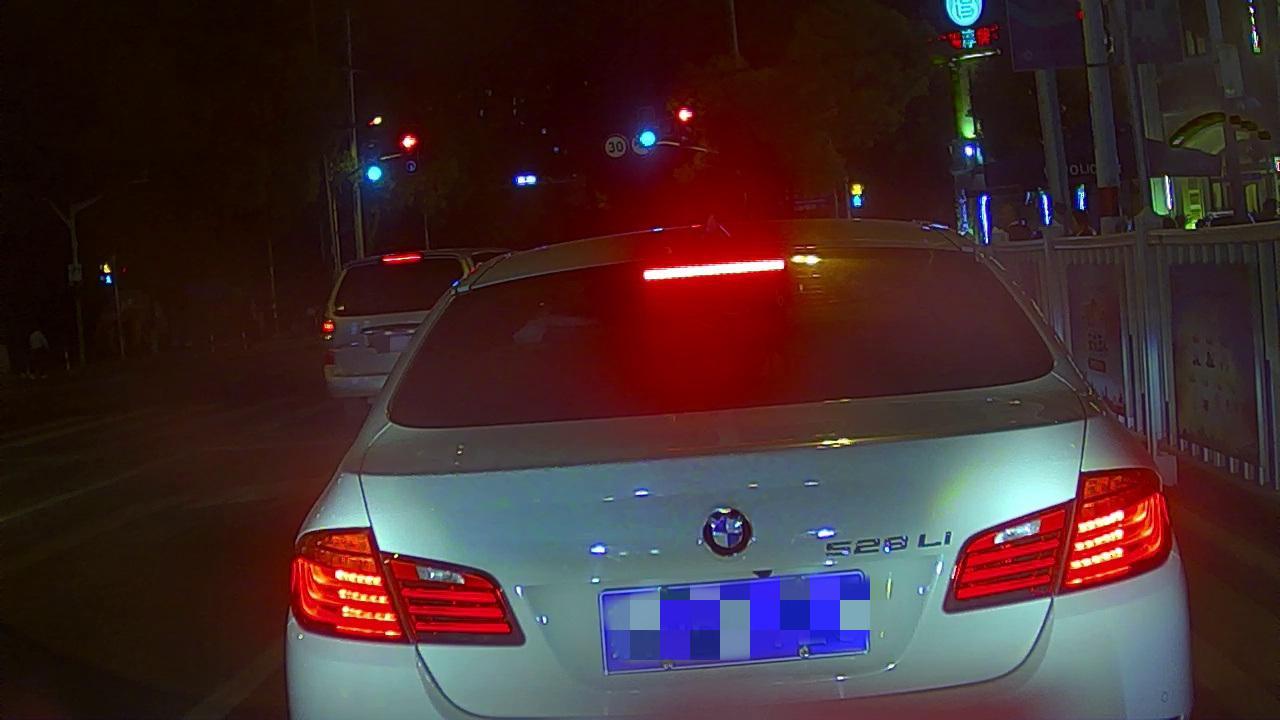traffic_light: (395, 128, 419, 154), (360, 162, 386, 185), (635, 127, 659, 151), (674, 103, 696, 126)
